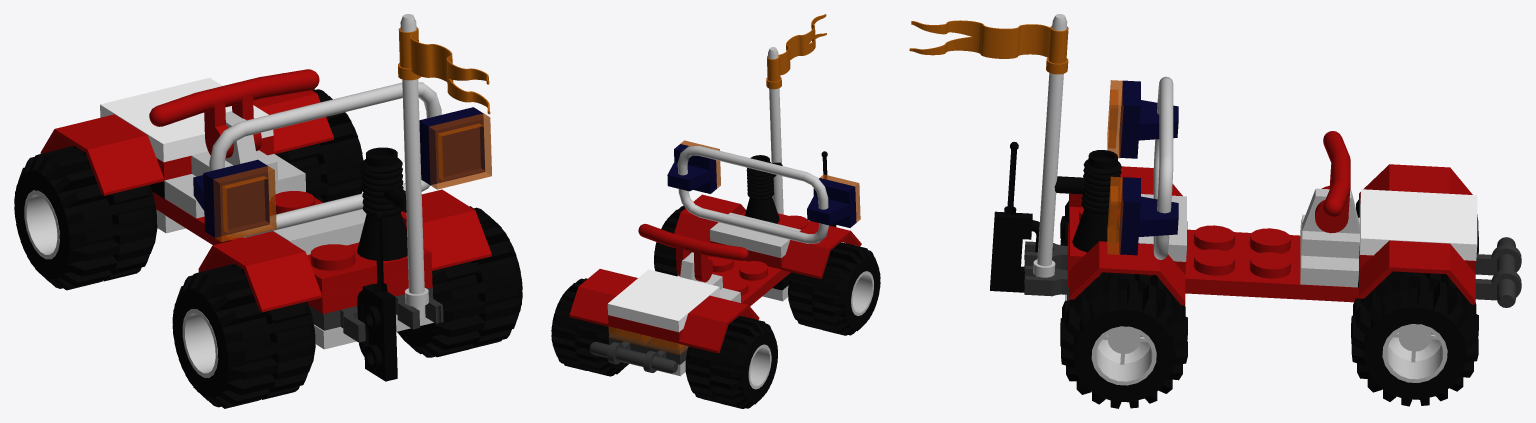
The picture shows the model from 3 angles, left to right: view 1: azimuth 30°, elevation 25°; view 2: azimuth 150°, elevation 25°; view 3: azimuth 270°, elevation 25°; orthographic projection. The views are drawn at different scales.
Visible parts, largest first — view 1: TireRL; view 2: TireRL; view 3: TireRL.
Boxes of the visible parts, x1,y1,x2,y2 form: TireRL: [14, 14, 522, 408]; TireRL: [551, 14, 880, 408]; TireRL: [909, 14, 1521, 408].
Bounding box in the file's own units: 43.19 × 52.36 × 84.54.
